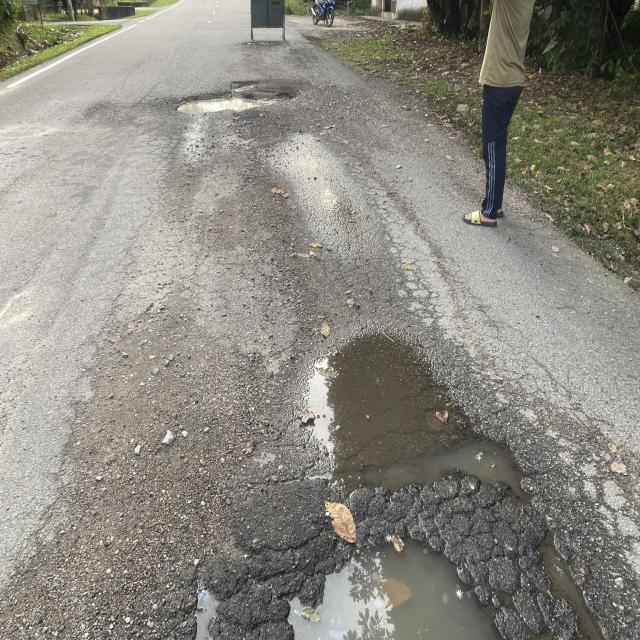Pothole: (269, 494, 546, 640)
